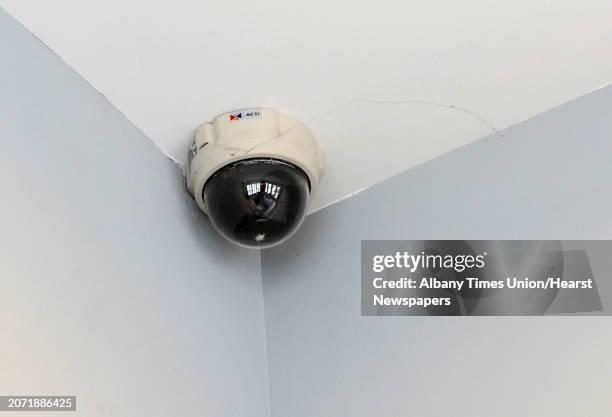Security camera: (182, 105, 324, 250)
